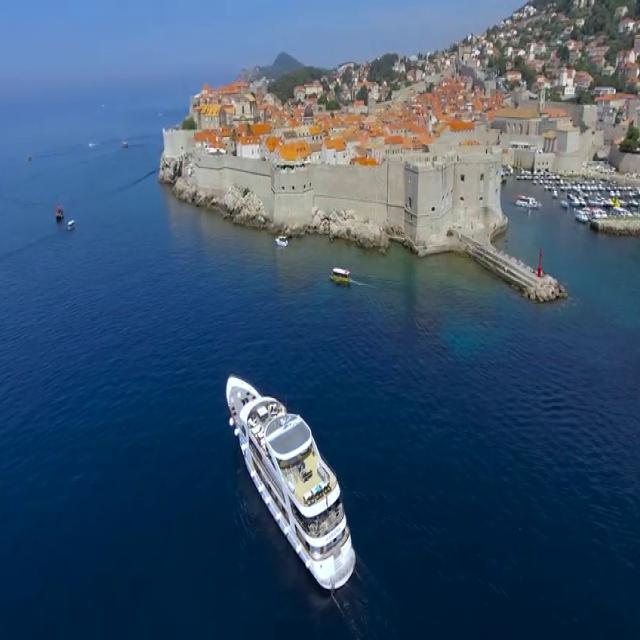passenger ship: (222, 368, 357, 591)
